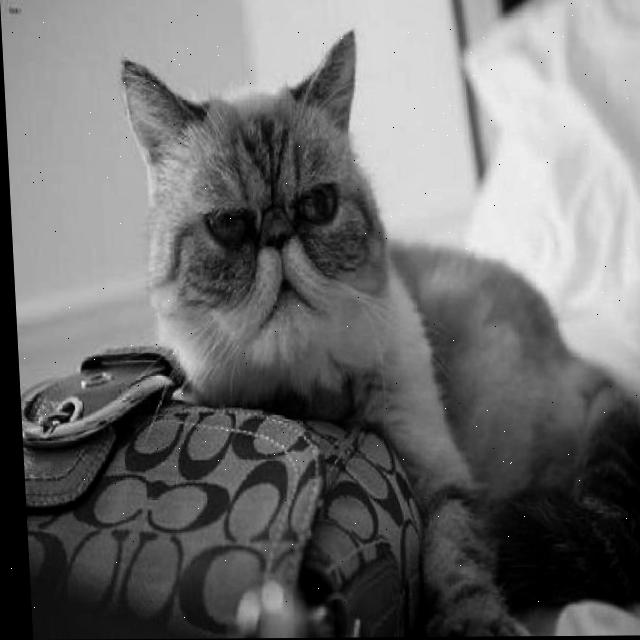Cat: (116, 21, 640, 638)
